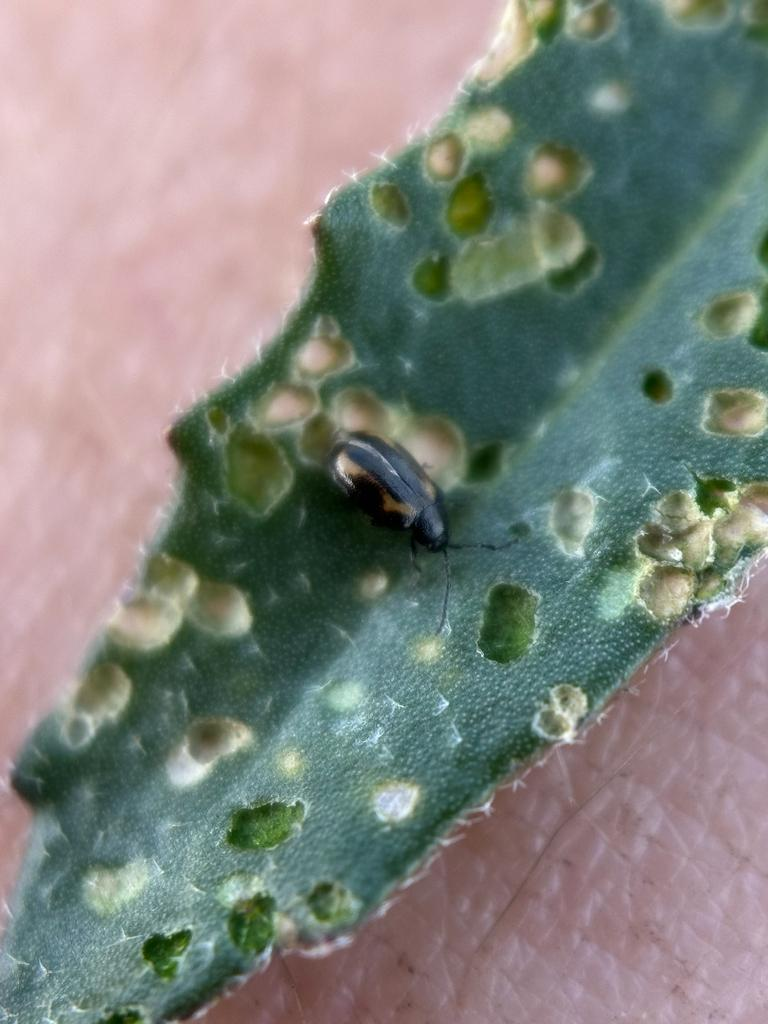flea_beetle: (290, 389, 537, 654)
